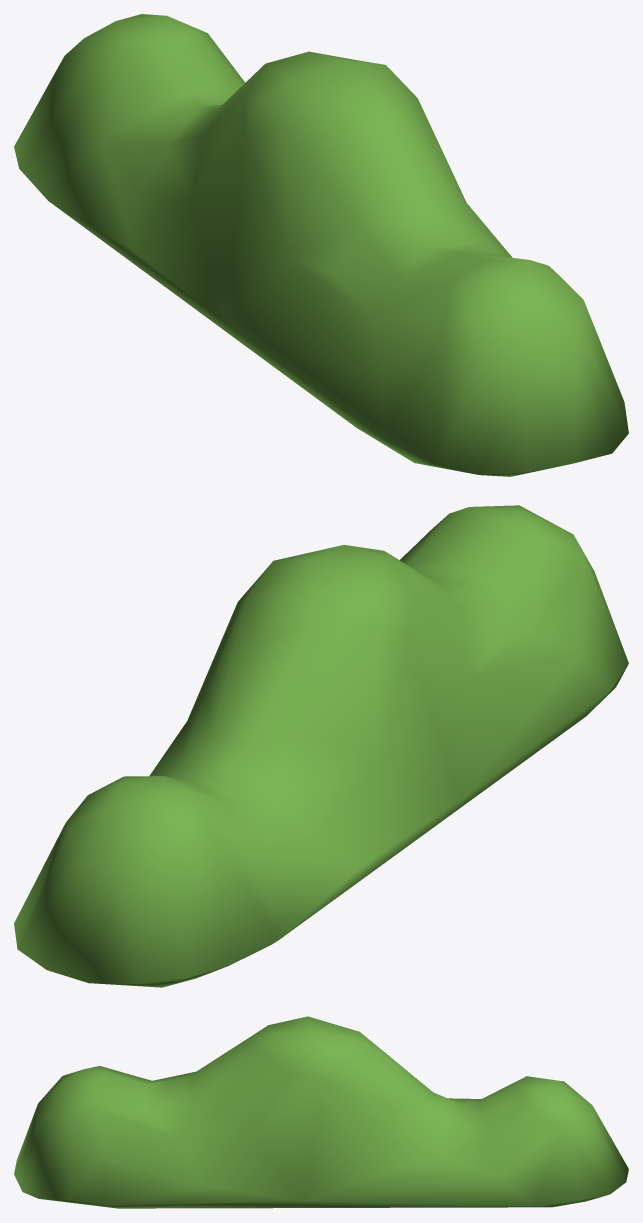
The model's file is Mossy grass.fbx.
3 views of the same model, one above another, from view 1: azimuth 30°, elevation 25°; view 2: azimuth 150°, elevation 25°; view 3: azimuth 270°, elevation 25° (orthographic). The views are drawn at different scales.
Visible parts, largest first — view 1: Mossy grass; view 2: Mossy grass; view 3: Mossy grass.
Part boxes in pixels (bbox=[...]): Mossy grass: bbox=[14, 14, 628, 476]; Mossy grass: bbox=[14, 505, 628, 987]; Mossy grass: bbox=[14, 1016, 628, 1208].
Bounding box in the file's own units: 195 × 190 × 699.
